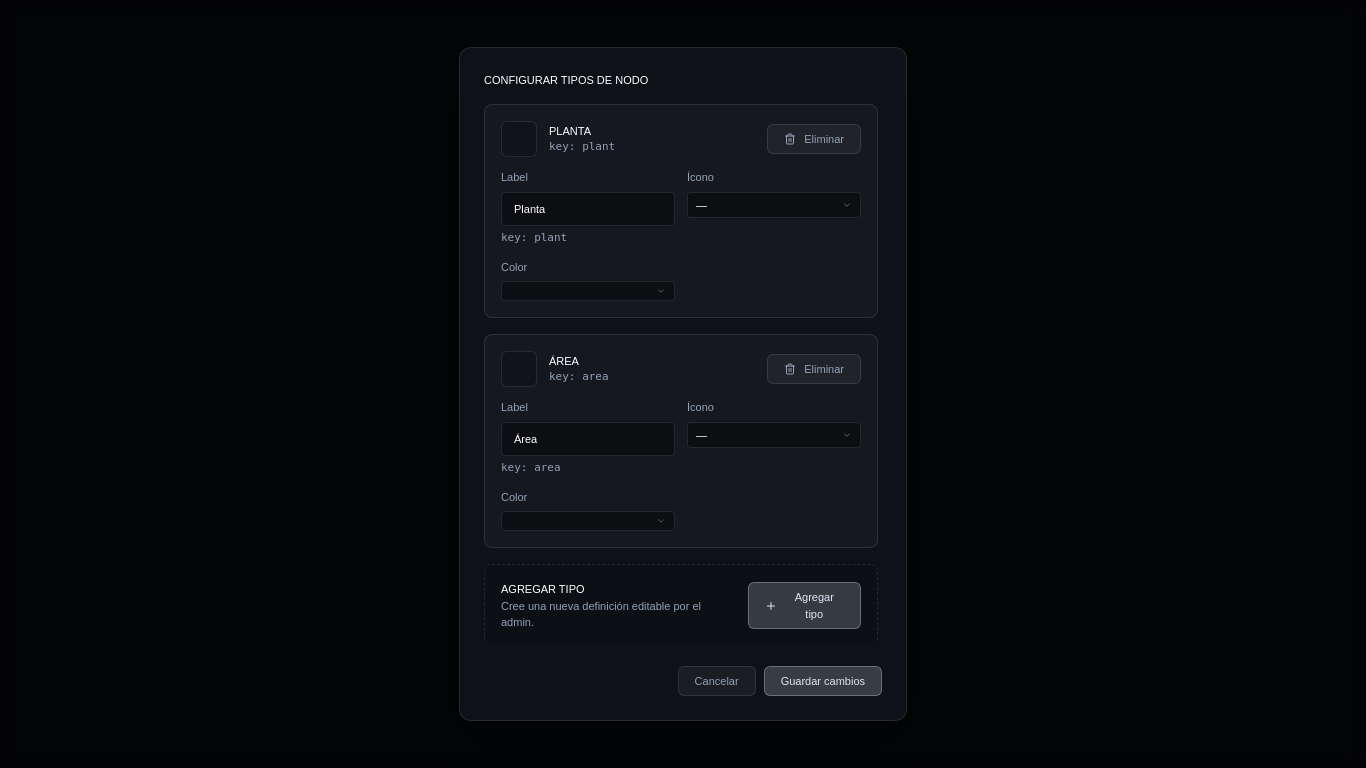
Test: NodeTypeConfigDialog › removes an unused type immediately
This screenshot has width=1366, height=768.
Click the button "Eliminar" in the row of "Área" at (814, 369), box [767, 354, 861, 384]
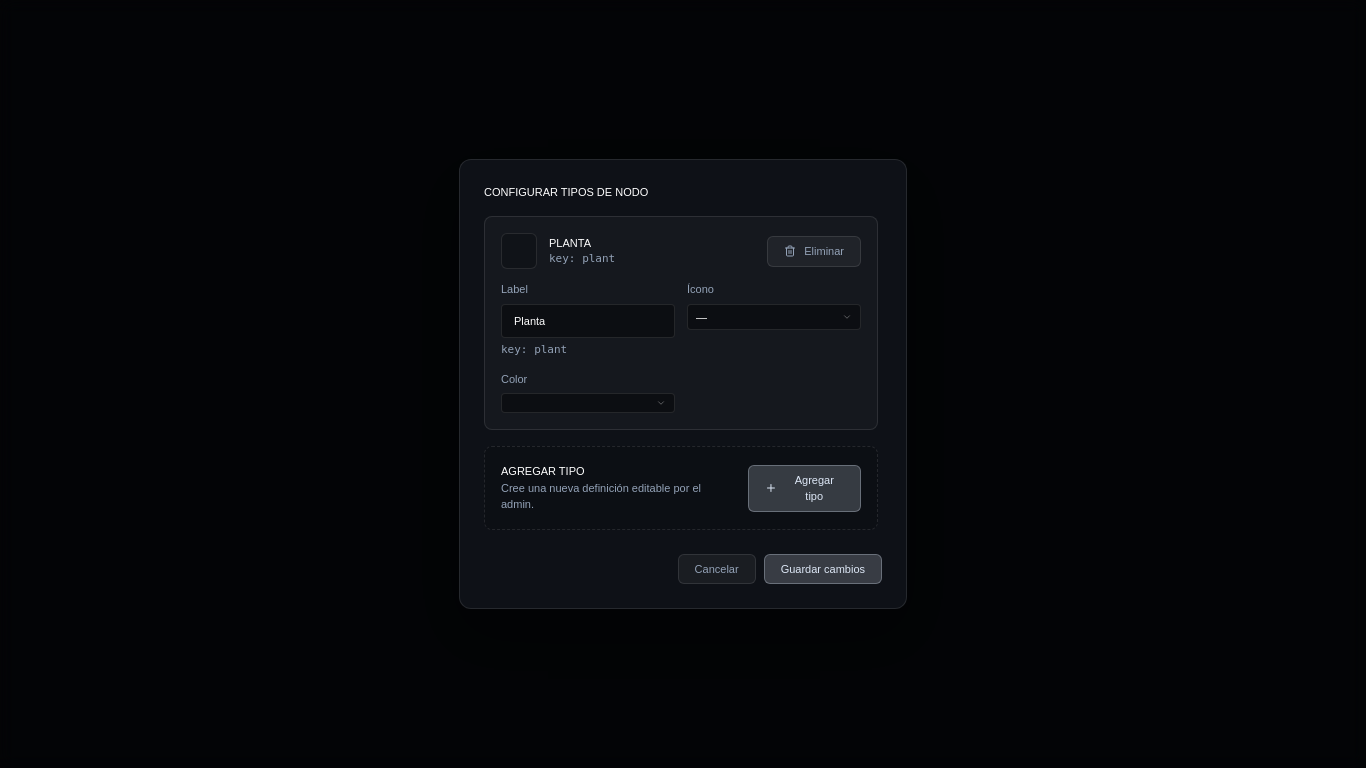
Check: the text showing "Área" is gone
